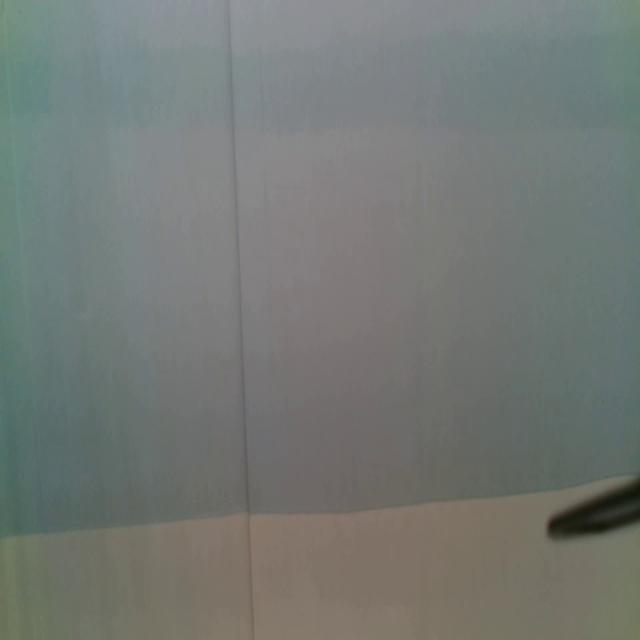color bleeding: (0, 24, 640, 139)
crease: (0, 1, 44, 503), (225, 0, 256, 638)
